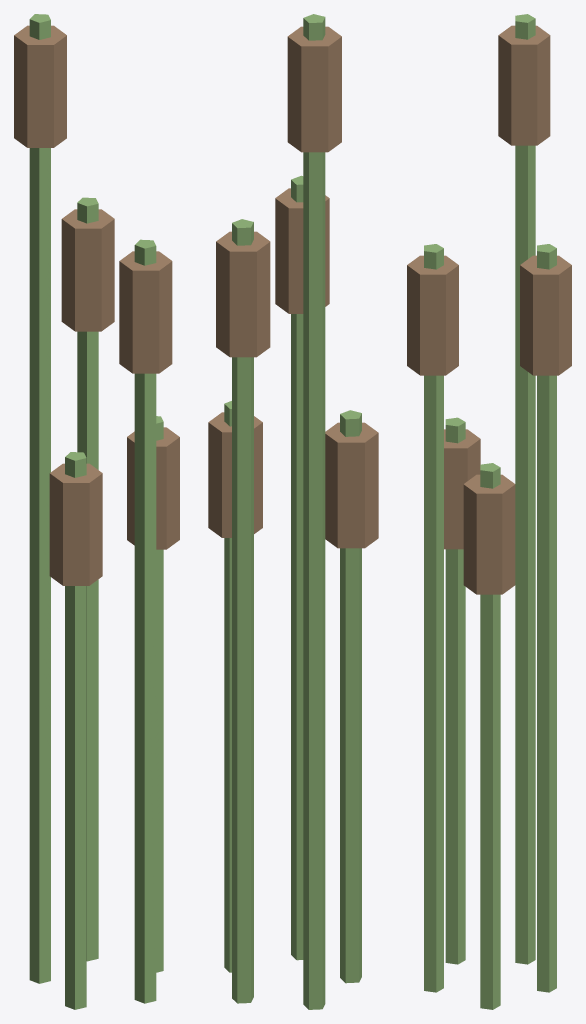
The model's file is 24_Cattail.glb.
The picture shows the model from 3 angles, left to right: view 1: azimuth 30°, elevation 25°; view 2: azimuth 150°, elevation 25°; view 3: azimuth 270°, elevation 25°; orthographic projection. The views are drawn at different scales.
Visible parts, largest first — view 1: Cattail_Stem3, Cattail_Stem5, Cattail_Stem4, Cattail_Stem2, Cattail_Head2, Cattail_Head5, Cattail_Head4, Cattail_Head3, Cattail_Head1, Cattail_Stem1; view 2: Cattail_Stem3, Cattail_Stem2, Cattail_Stem4, Cattail_Stem5, Cattail_Head3, Cattail_Head2, Cattail_Head4, Cattail_Head5, Cattail_Head1, Cattail_Stem1; view 3: Cattail_Stem3, Cattail_Stem2, Cattail_Stem5, Cattail_Stem1, Cattail_Stem4, Cattail_Head1, Cattail_Head3, Cattail_Head2, Cattail_Head5, Cattail_Head4.
Part boxes in pixels (x1,y1,x2,y2): Cattail_Stem3: (29, 14, 50, 983); Cattail_Stem5: (134, 239, 156, 1003); Cattail_Stem4: (65, 452, 86, 1009); Cattail_Stem2: (77, 197, 98, 961); Cattail_Head2: (61, 209, 114, 331); Cattail_Head5: (119, 251, 172, 373); Cattail_Head4: (49, 463, 102, 585); Cattail_Head3: (14, 25, 66, 147); Cattail_Head1: (127, 427, 179, 549); Cattail_Stem1: (156, 416, 163, 972); Cattail_Stem3: (303, 14, 325, 1009); Cattail_Stem2: (232, 219, 253, 1003); Cattail_Stem4: (340, 410, 361, 983); Cattail_Stem5: (291, 175, 303, 960); Cattail_Head3: (287, 26, 341, 152); Cattail_Head2: (216, 231, 270, 357); Cattail_Head4: (325, 422, 378, 548); Cattail_Head5: (275, 188, 329, 313); Cattail_Head1: (208, 412, 262, 537); Cattail_Stem1: (224, 401, 231, 972); Cattail_Stem3: (515, 14, 535, 964); Cattail_Stem2: (537, 244, 556, 992); Cattail_Stem5: (424, 244, 443, 992); Cattail_Stem1: (480, 463, 500, 1009); Cattail_Stem4: (445, 417, 465, 964); Cattail_Head1: (463, 474, 515, 594); Cattail_Head3: (498, 25, 550, 145); Cattail_Head2: (520, 255, 571, 375); Cattail_Head5: (407, 255, 458, 375); Cattail_Head4: (444, 429, 480, 549).
Size of the model in its own units: 0.2053 by 1.4 by 0.2222.
